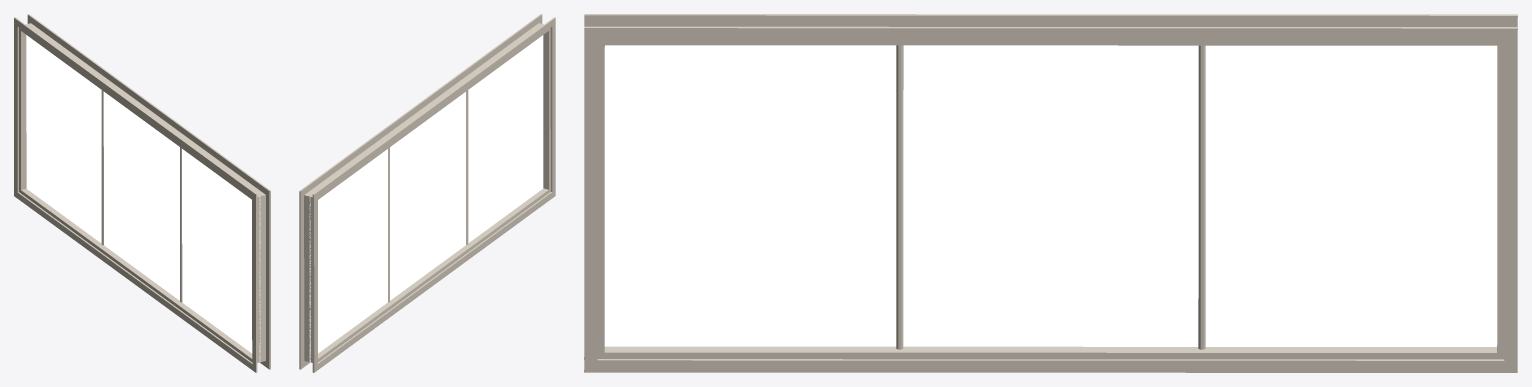
File: window.glb
3 views of the same model, side by side, from view 1: azimuth 30°, elevation 25°; view 2: azimuth 150°, elevation 25°; view 3: azimuth 270°, elevation 25° (orthographic). The views are drawn at different scales.
Visible parts, largest first — view 1: window; view 2: window; view 3: window.
Boxes of the visible parts, x1,y1,x2,y2 form: window: (14, 14, 270, 372); window: (299, 14, 555, 372); window: (584, 14, 1517, 372).
Size of the model in its own units: 0.0163 by 0.1856 by 0.4554.
